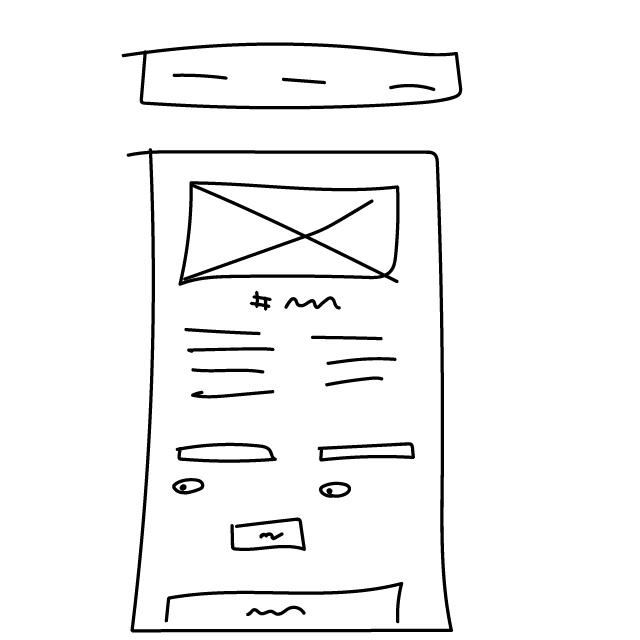button: (229, 514, 310, 557)
checkbox: (173, 475, 209, 499), (318, 479, 354, 501)
container: (108, 143, 465, 635)
footer: (161, 579, 414, 627)
frame: (178, 178, 408, 294)
heading: (250, 287, 354, 315)
input: (177, 439, 281, 468), (315, 441, 418, 464)
nav: (123, 35, 471, 116)
text: (180, 325, 292, 408), (306, 326, 405, 398)
